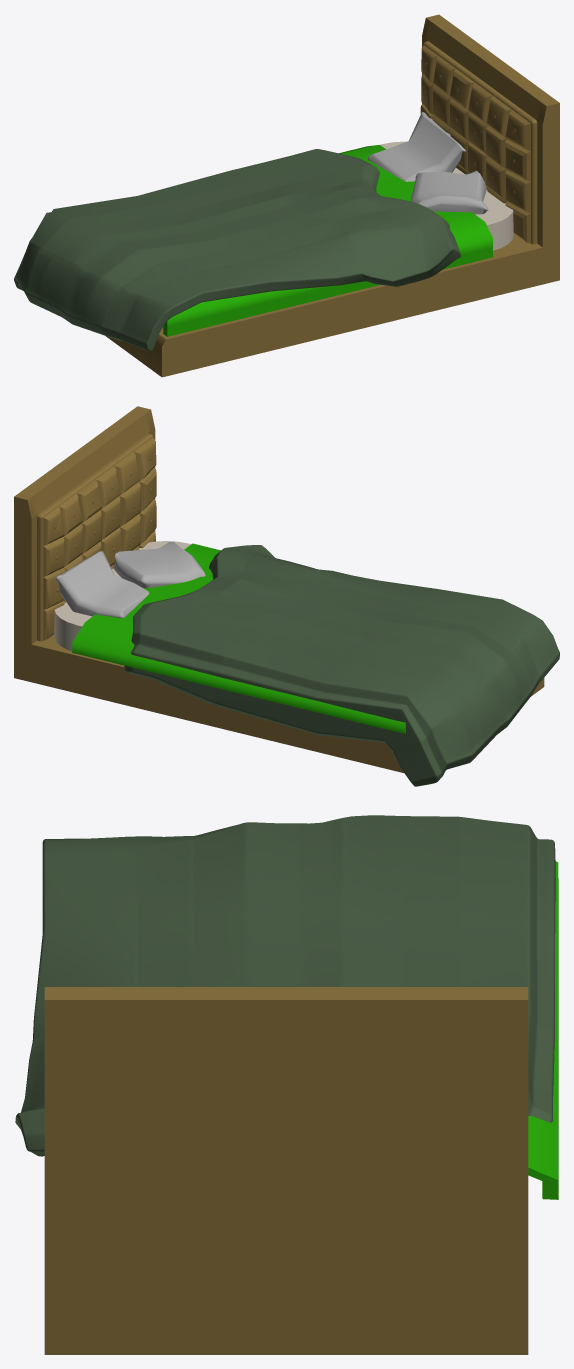
File: bed 1.fbx
The picture shows the model from 3 angles, top to bottom: view 1: azimuth 30°, elevation 25°; view 2: azimuth 150°, elevation 25°; view 3: azimuth 270°, elevation 25°; orthographic projection. The views are drawn at different scales.
Parts seen in each view (by area): view 1: sketchfab_render:pSphere48polySurface157; view 2: sketchfab_render:pSphere48polySurface157; view 3: sketchfab_render:pSphere48polySurface157.
Part boxes in pixels (<box>): sketchfab_render:pSphere48polySurface157: <box>14,14,559,377</box>; sketchfab_render:pSphere48polySurface157: <box>14,406,559,786</box>; sketchfab_render:pSphere48polySurface157: <box>15,815,558,1354</box>.
Size of the model in its own units: 2526 by 1035 by 1377.
